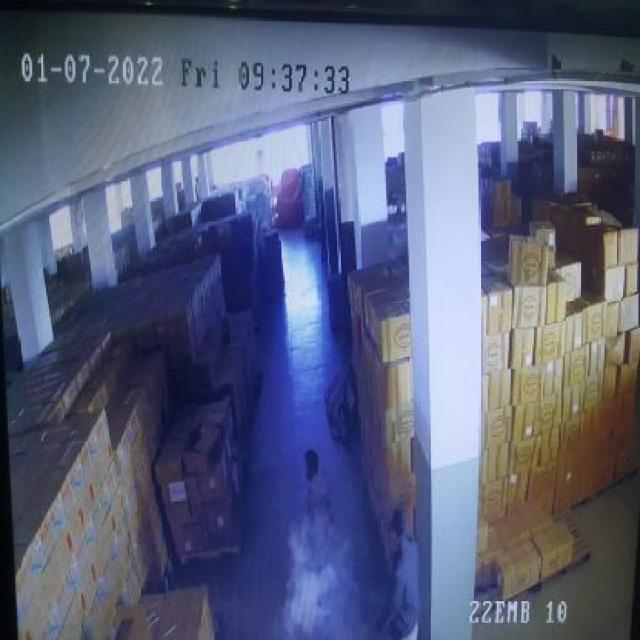fire: (275, 510, 354, 639)
